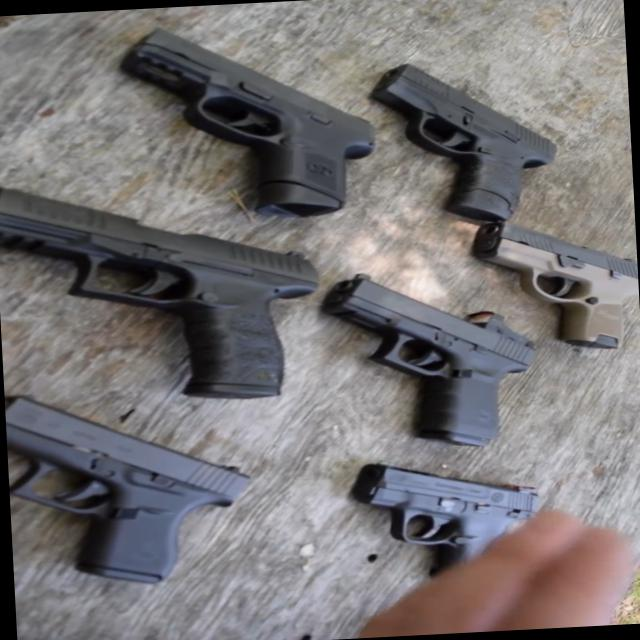handgun: (0, 153, 336, 421), (124, 18, 396, 232), (4, 377, 270, 592), (314, 262, 540, 470), (330, 446, 550, 602), (370, 46, 551, 230), (472, 199, 639, 362)
